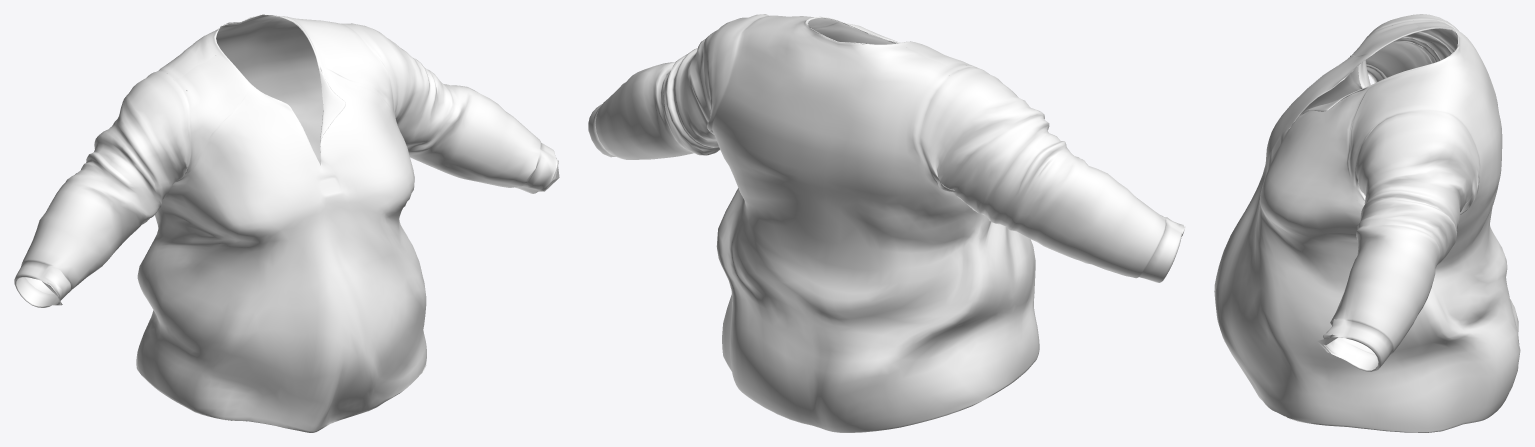
Rendered from LongSleeves.glb.
The picture shows the model from 3 angles, left to right: view 1: azimuth 30°, elevation 25°; view 2: azimuth 150°, elevation 25°; view 3: azimuth 270°, elevation 25°; orthographic projection. The views are drawn at different scales.
Visible parts, largest first — view 1: Newport_Shirt_10879; view 2: Newport_Shirt_10879; view 3: Newport_Shirt_10879.
Part boxes in pixels (box(x1,y1,x2,y2)): Newport_Shirt_10879: box(14, 14, 559, 432); Newport_Shirt_10879: box(588, 14, 1185, 432); Newport_Shirt_10879: box(1214, 14, 1520, 432).
Bounding box in the file's own units: 22.03 × 13.45 × 10.6.
Materials: 1 (1 with a texture image).
